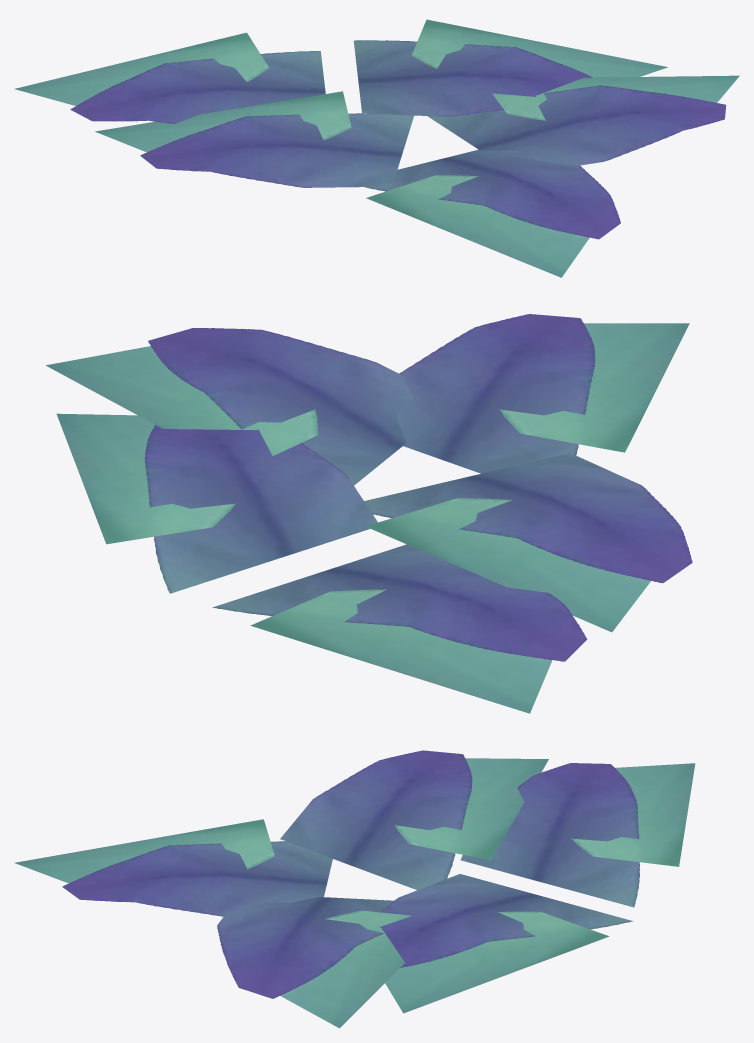
3 views of the same model, one above another, from view 1: azimuth 30°, elevation 25°; view 2: azimuth 150°, elevation 25°; view 3: azimuth 270°, elevation 25° (orthographic). The views are drawn at different scales.
Visible parts, largest first — view 1: SM_FH_SwampFern_01_LOD0; view 2: SM_FH_SwampFern_01_LOD0; view 3: SM_FH_SwampFern_01_LOD0.
Part boxes in pixels (left/top/right/bottom): SM_FH_SwampFern_01_LOD0: left=15, top=19, right=739, bottom=277; SM_FH_SwampFern_01_LOD0: left=46, top=314, right=692, bottom=713; SM_FH_SwampFern_01_LOD0: left=14, top=750, right=695, bottom=1028.
Size of the model in its own units: 0.782 by 0.0452 by 0.8798.
